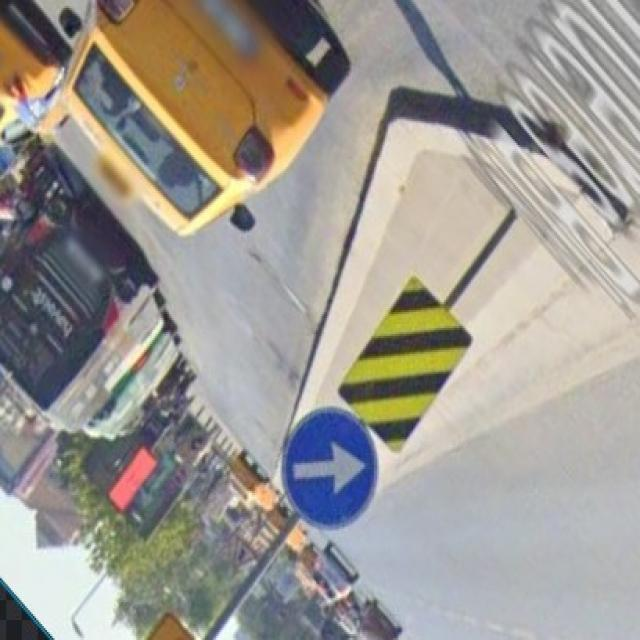Turn Right: (272, 405, 381, 534)
